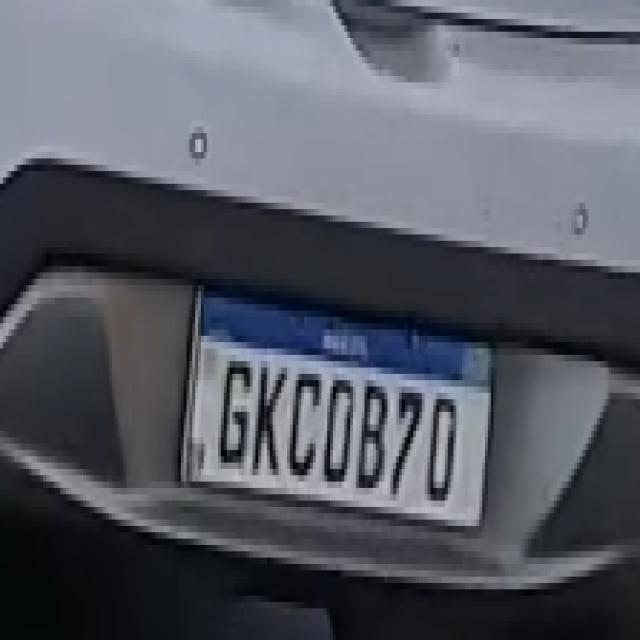Placa_mercosul_carro: (180, 279, 497, 529)
